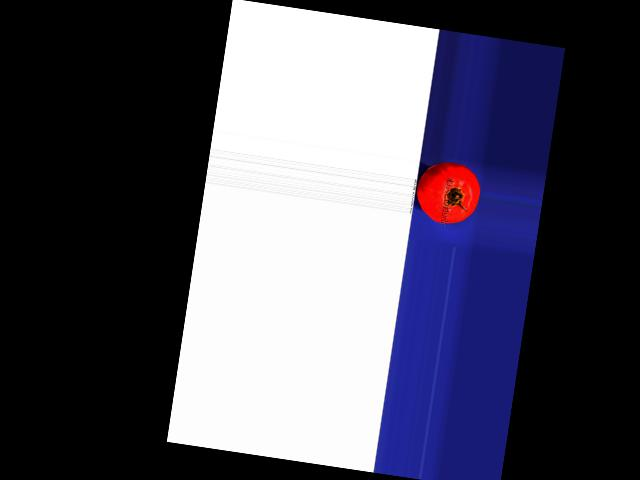tomato: (413, 157, 483, 227)
